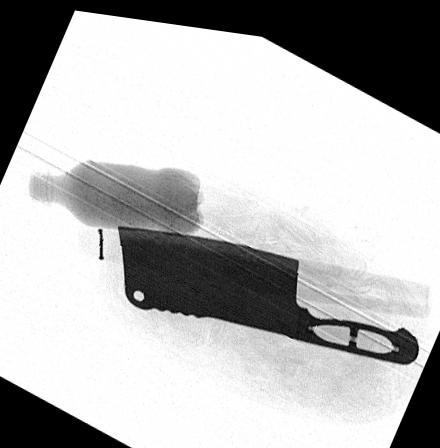Knife: (116, 221, 419, 352)
